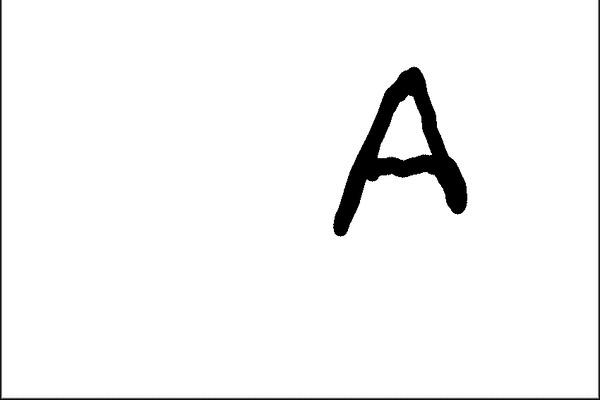A: (316, 58, 473, 238)
